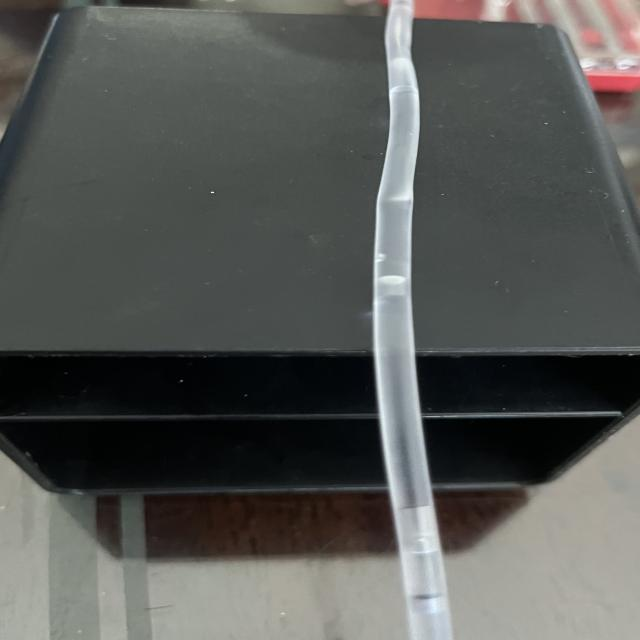bubble: (380, 497, 485, 562), (364, 46, 448, 97), (370, 185, 432, 216), (394, 593, 466, 615), (364, 237, 402, 275), (371, 276, 438, 294)
